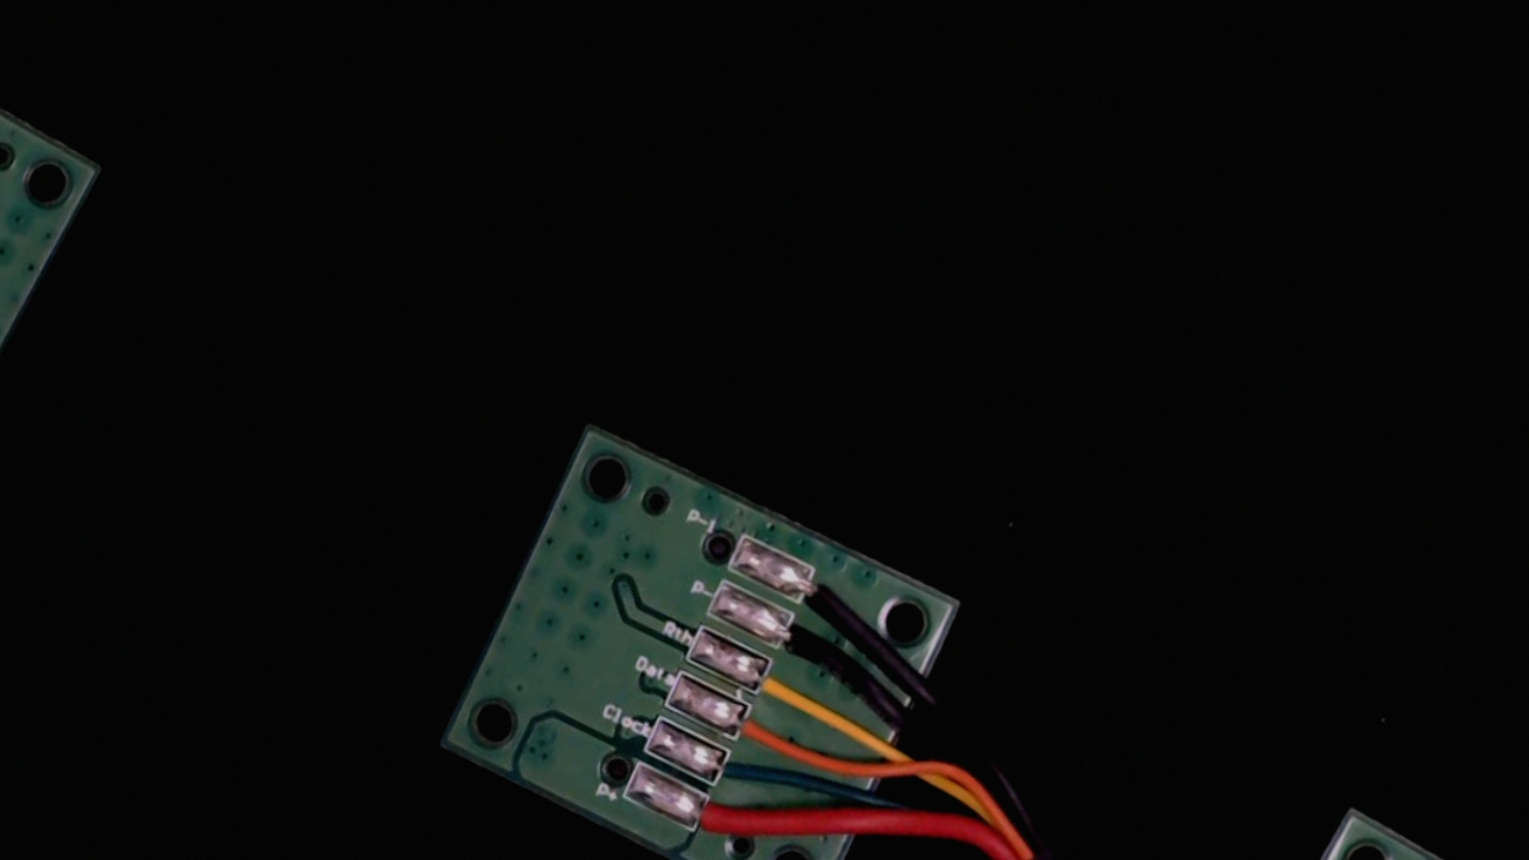Black: (757, 604, 854, 679)
Black1: (782, 562, 864, 629)
Green: (692, 734, 792, 816)
Orange: (713, 691, 814, 771)
Red: (672, 781, 772, 860)
Yellow: (735, 649, 832, 723)
